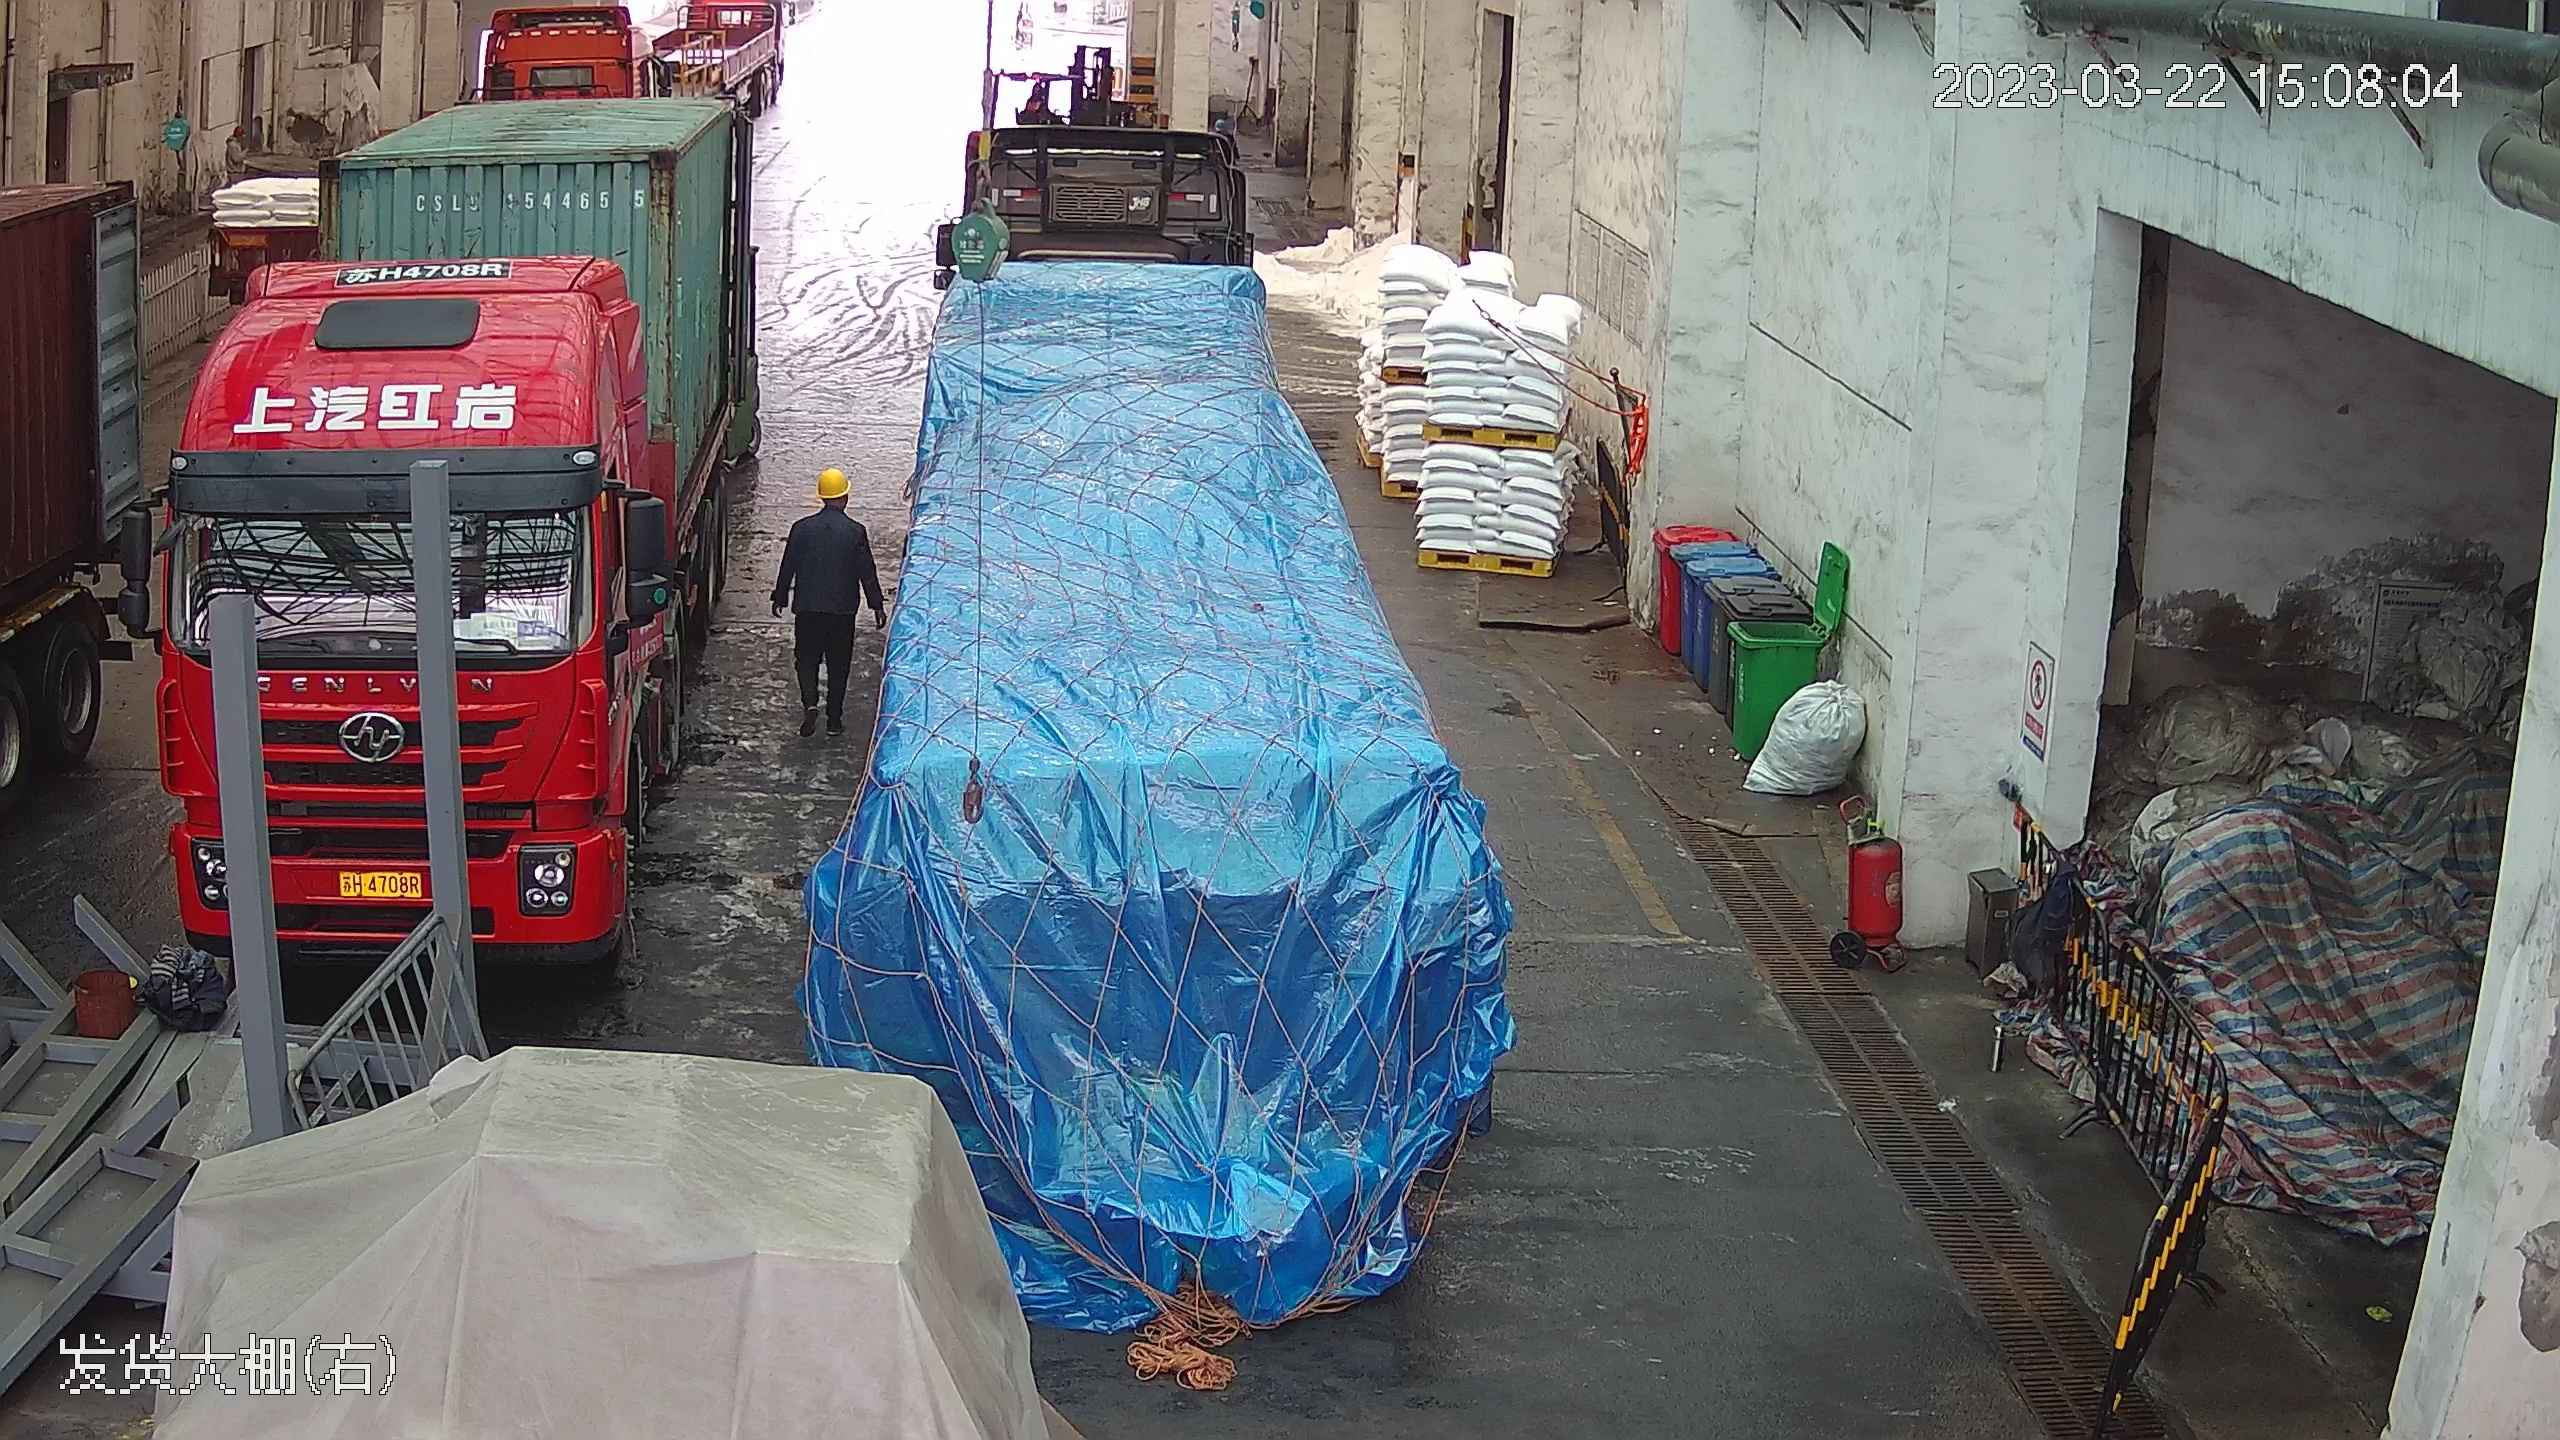head: (787, 465, 870, 552)
helmet: (811, 465, 852, 497)
people: (771, 462, 879, 749)
truck: (791, 31, 1564, 1373), (141, 15, 765, 966), (2, 130, 155, 1041)
